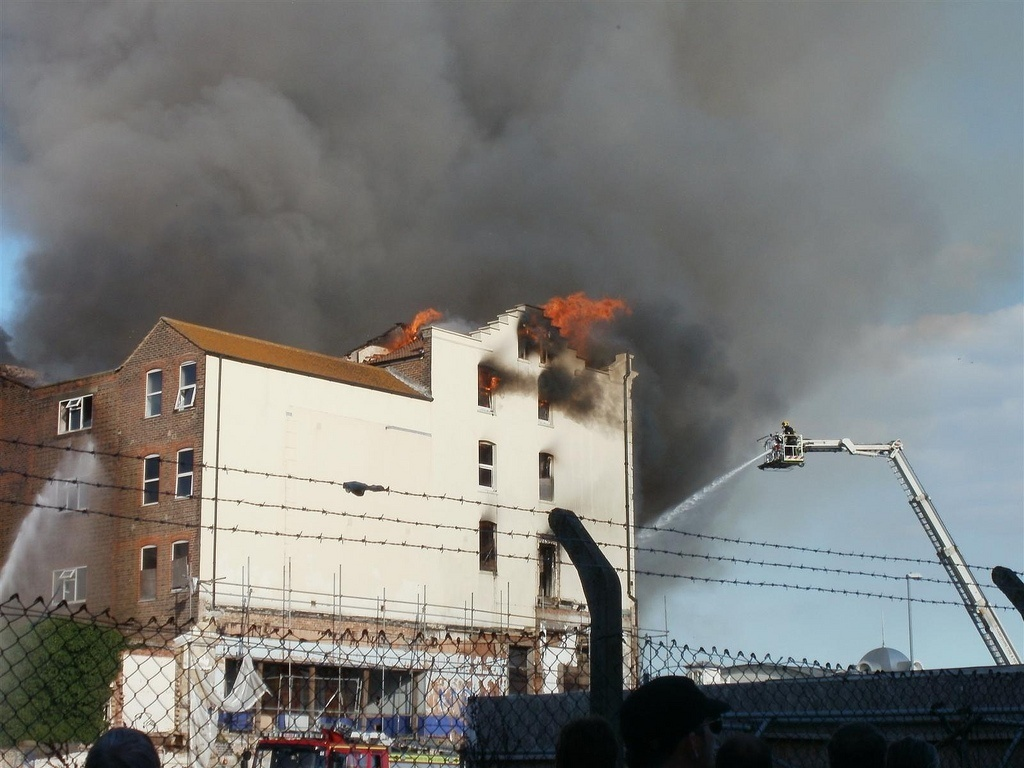fire: (534, 291, 627, 343), (386, 305, 438, 348), (478, 363, 502, 398)
